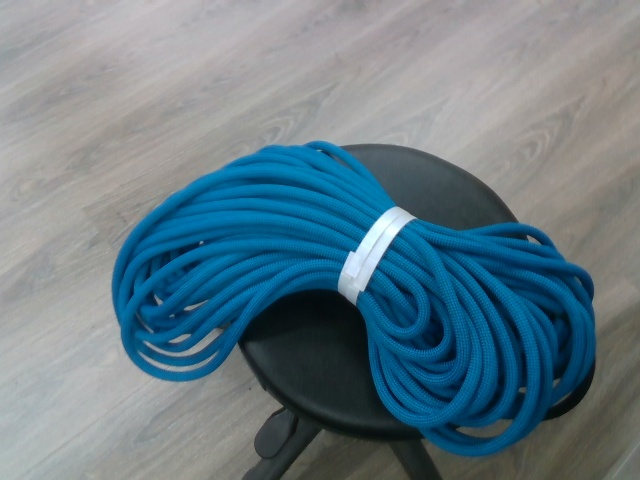rope: (109, 140, 600, 460)
